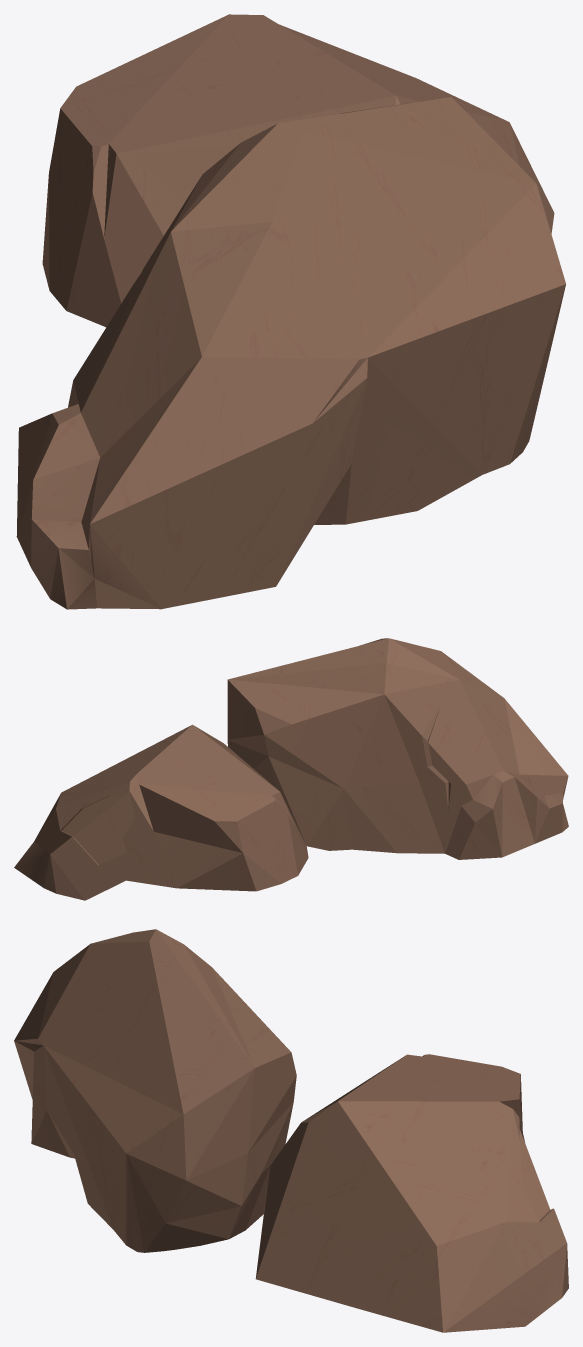
The model's file is Desert_Rock_C.fbx.
3 views of the same model, one above another, from view 1: azimuth 30°, elevation 25°; view 2: azimuth 150°, elevation 25°; view 3: azimuth 270°, elevation 25° (orthographic). The views are drawn at different scales.
Parts seen in each view (by area): view 1: Desert_Rock_C.004; view 2: Desert_Rock_C.004; view 3: Desert_Rock_C.004.
Boxes of the visible parts, left/top/right/bottom form: Desert_Rock_C.004: left=16, top=14, right=565, bottom=609; Desert_Rock_C.004: left=14, top=638, right=568, bottom=900; Desert_Rock_C.004: left=14, top=929, right=568, bottom=1332.
Bounding box in the file's own units: 821 × 378 × 763.
